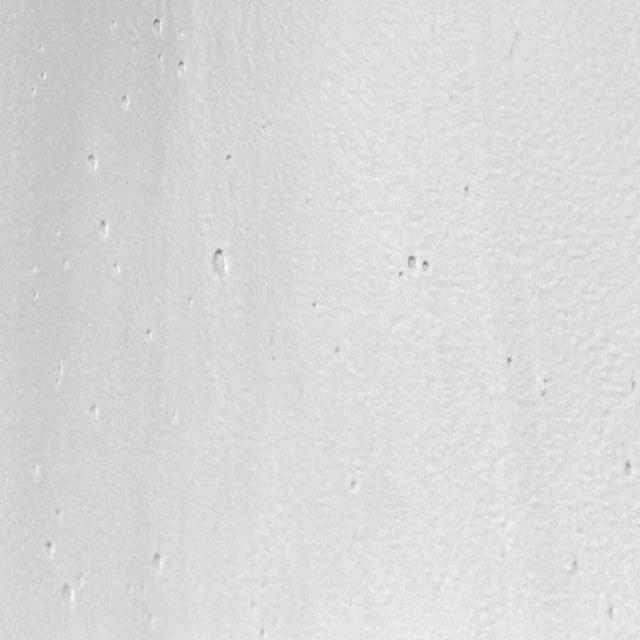pin holes: (207, 244, 232, 282), (57, 582, 77, 608), (150, 550, 170, 575), (256, 118, 278, 139), (602, 602, 620, 627), (568, 556, 584, 580), (85, 153, 102, 175), (622, 460, 638, 483), (405, 255, 422, 276), (43, 538, 58, 560), (95, 219, 111, 239), (152, 17, 167, 38), (88, 402, 103, 422), (120, 92, 134, 112), (504, 355, 519, 372), (420, 259, 434, 277), (346, 478, 360, 495), (463, 184, 475, 202), (332, 344, 345, 360), (60, 258, 72, 275), (176, 60, 188, 76), (53, 508, 65, 524), (224, 153, 237, 167), (308, 300, 321, 314), (258, 624, 271, 638), (112, 261, 123, 277), (186, 294, 197, 310), (156, 52, 166, 69), (143, 327, 155, 341), (628, 378, 638, 394), (110, 18, 120, 34), (29, 86, 38, 100), (40, 70, 50, 82)
